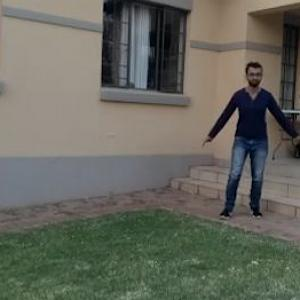land: (196, 68, 295, 226)
